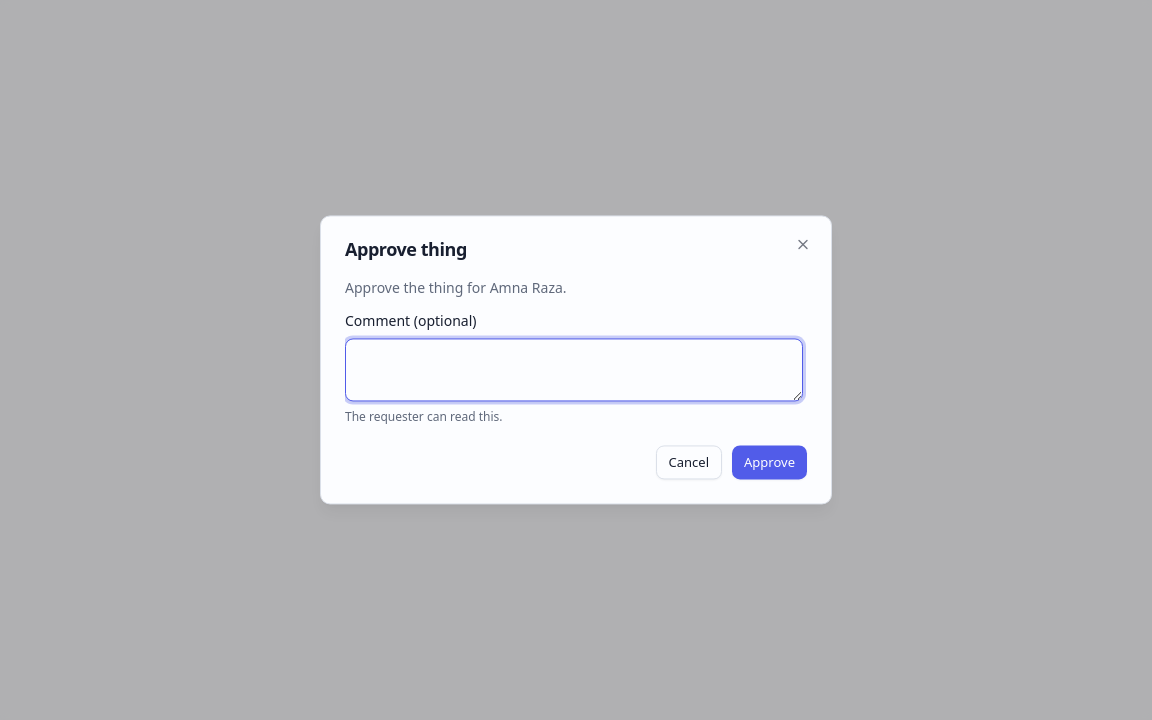
DecisionDialog › keeps any other refusal inline, the dialog open and the decision available
Click the button "Approve". click: [770, 463]
box: top-left (732, 446), bottom-right (807, 480)
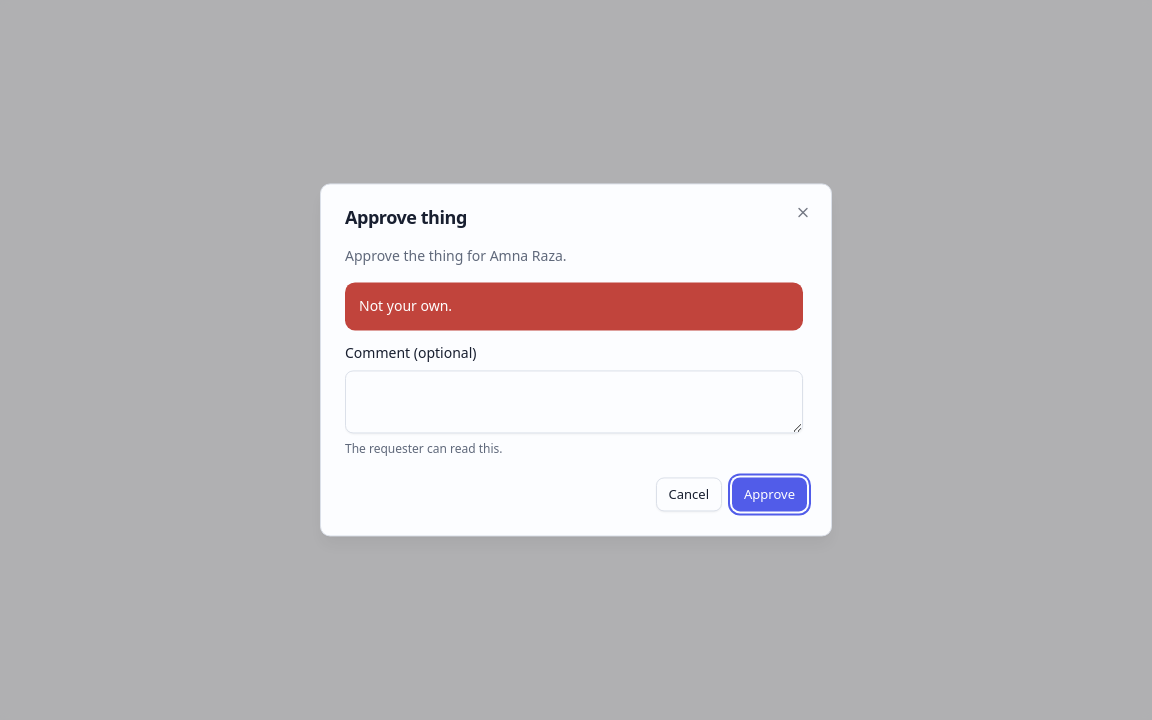
Expected: the button "Approve" is enabled, top-left (732, 478), bottom-right (807, 512)
Expected: the text "Not your own." is shown, top-left (345, 282), bottom-right (803, 330)
